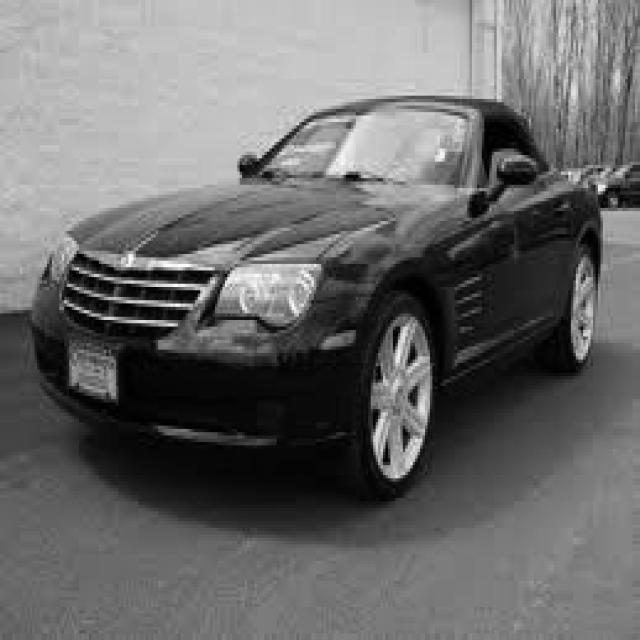car: (27, 92, 603, 502)
